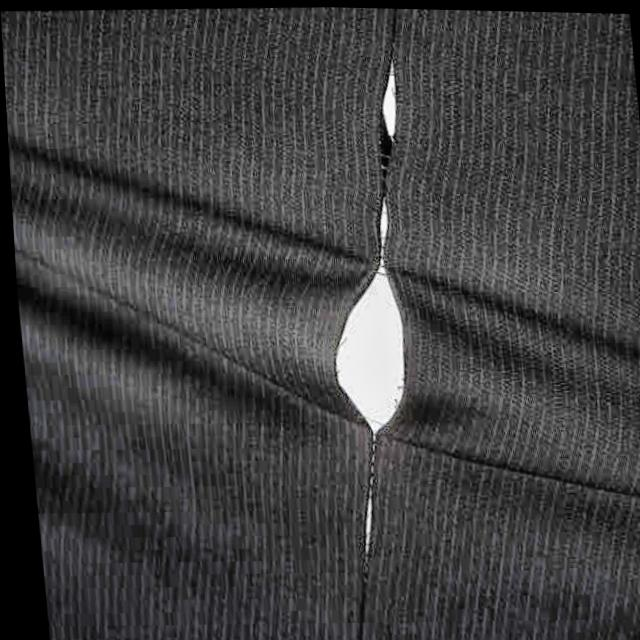seam: (297, 194, 445, 574), (357, 41, 414, 166)
